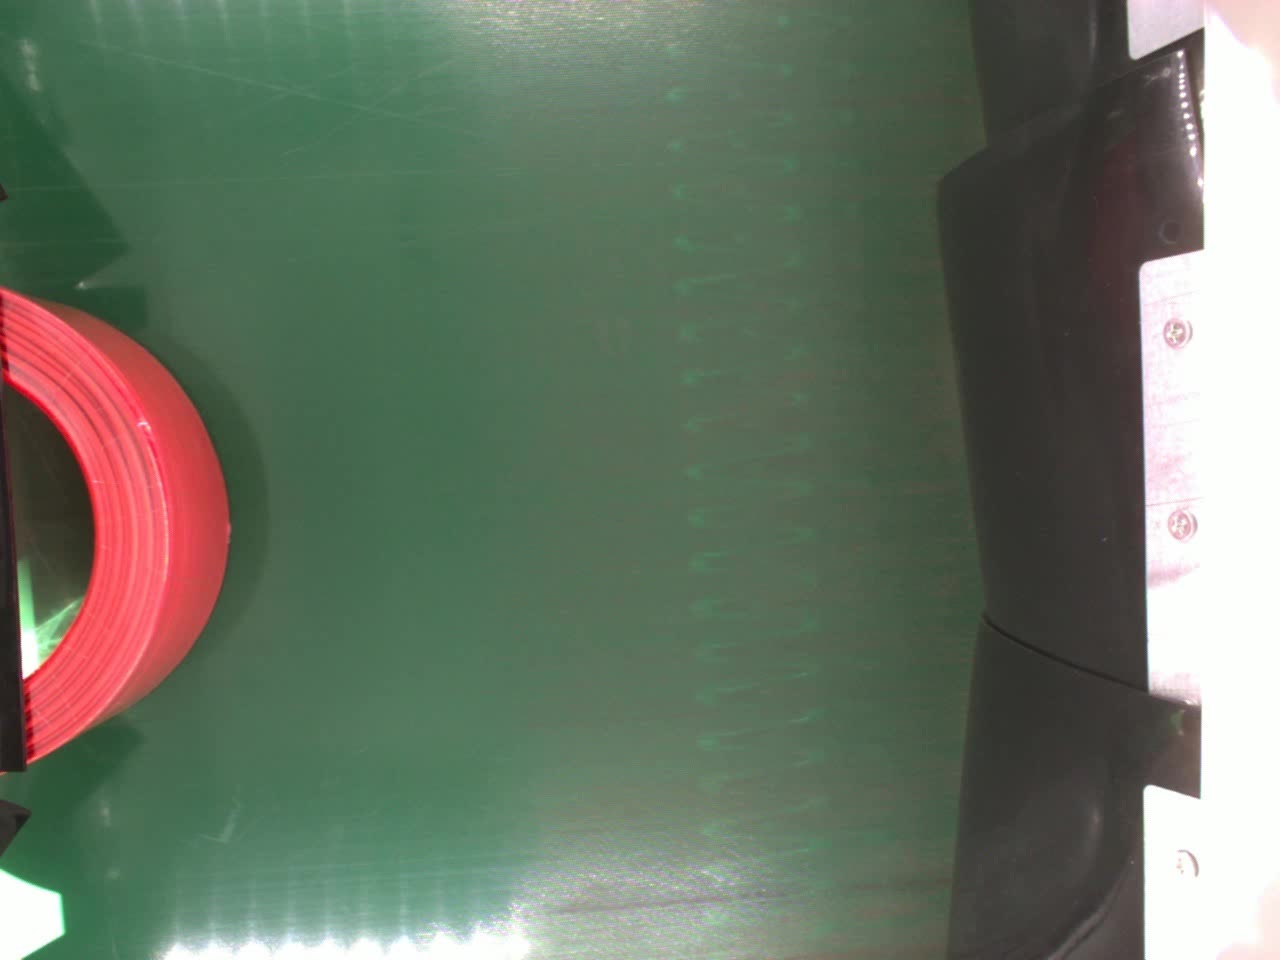red: (0, 284, 233, 767)
